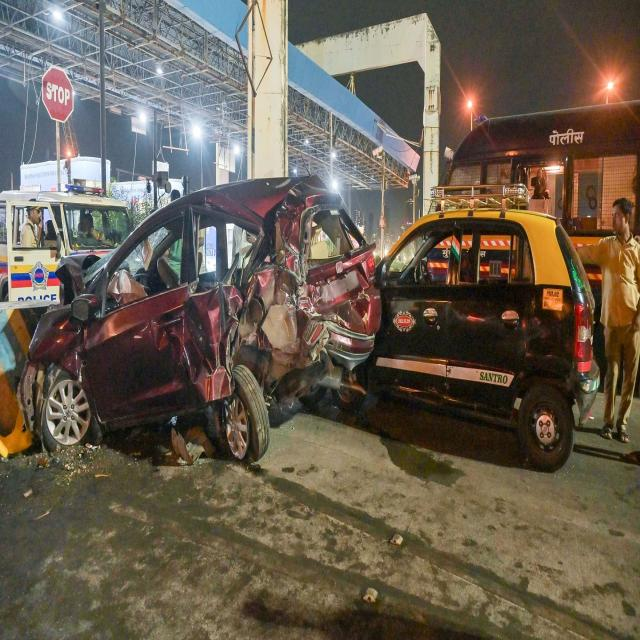accident: (20, 178, 381, 461)
car: (366, 184, 600, 471), (0, 191, 131, 307)
